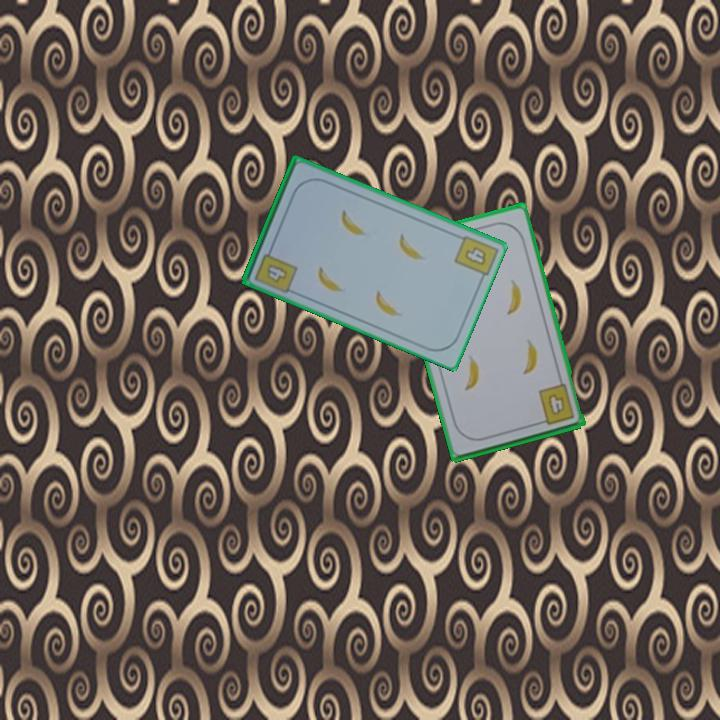4b: (251, 242, 300, 294), (534, 381, 577, 428), (461, 243, 490, 268)
